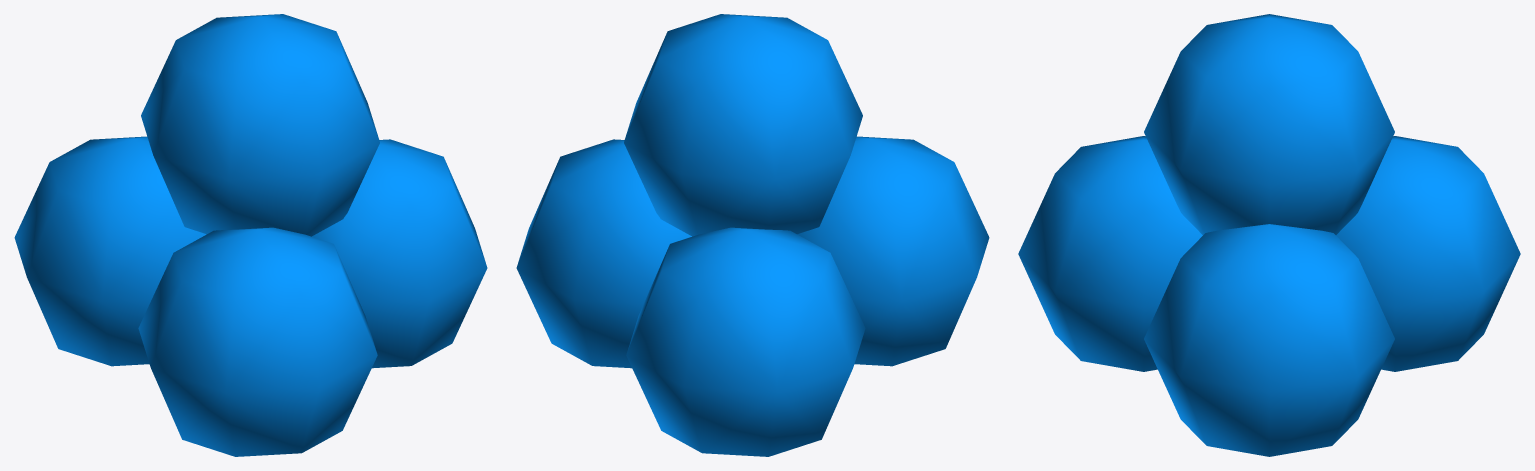
The model's file is blue.dae.
The picture shows the model from 3 angles, left to right: view 1: azimuth 30°, elevation 25°; view 2: azimuth 150°, elevation 25°; view 3: azimuth 270°, elevation 25°; orthographic projection.
Parts seen in each view (by area): view 1: Regroup02; view 2: Regroup02; view 3: Regroup02.
Part boxes in pixels (bbox=[...]): Regroup02: bbox=[14, 14, 487, 456]; Regroup02: bbox=[516, 14, 989, 456]; Regroup02: bbox=[1018, 14, 1520, 456].
Size of the model in its own units: 1.44 by 1.34 by 1.6.
